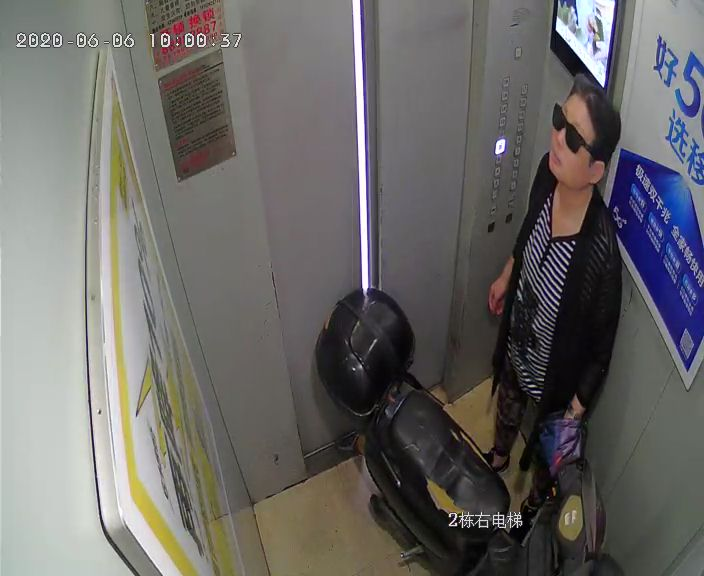Electric-bicycle: (314, 285, 621, 576)
